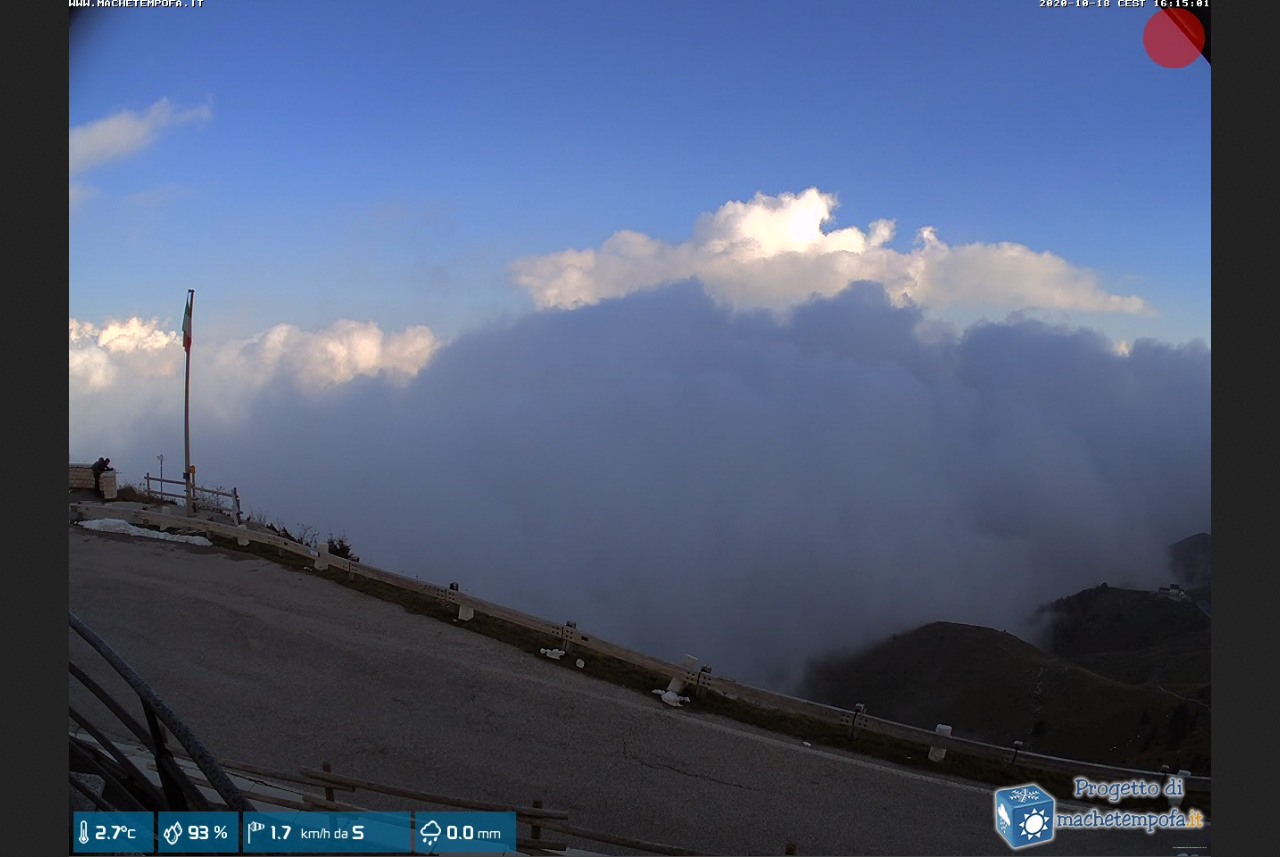no: (180, 293, 195, 354)
